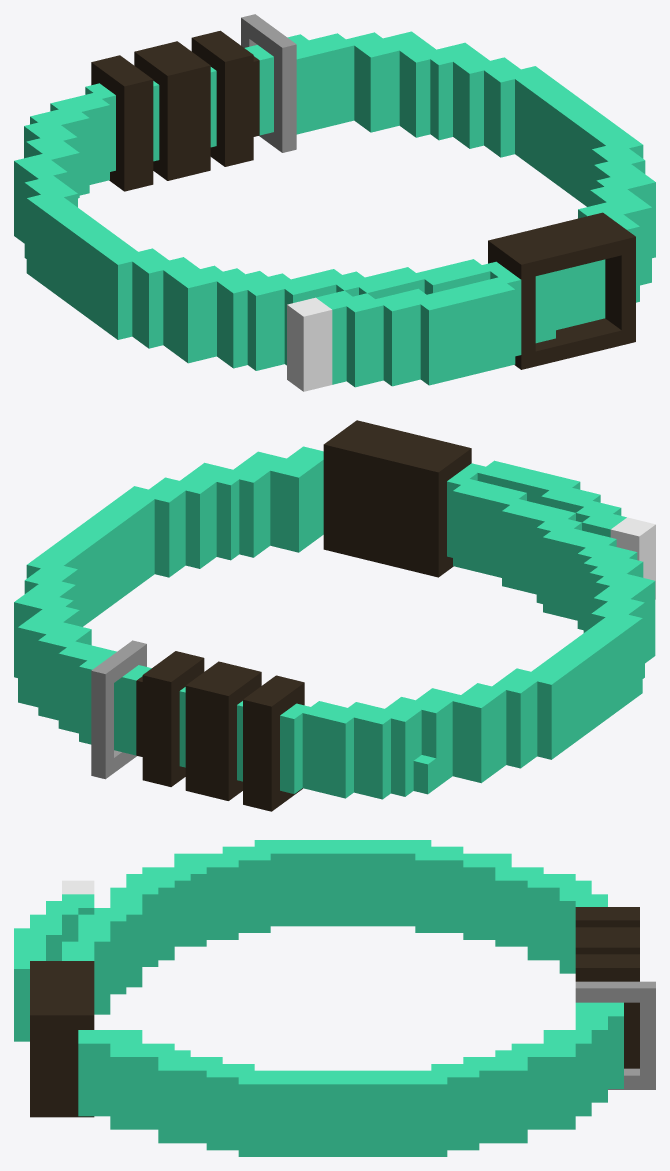
Rendered from necklace.FBX.
3 views of the same model, one above another, from view 1: azimuth 30°, elevation 25°; view 2: azimuth 150°, elevation 25°; view 3: azimuth 270°, elevation 25° (orthographic). The views are drawn at different scales.
Visible parts, largest first — view 1: necklace; view 2: necklace; view 3: necklace.
Boxes of the visible parts, <box> form: necklace: <box>14,14,655,391</box>; necklace: <box>14,420,655,811</box>; necklace: <box>14,840,655,1156</box>.
Bounding box in the file's own units: 15.37 × 2.99 × 17.07.
1 material, 1 textured.
